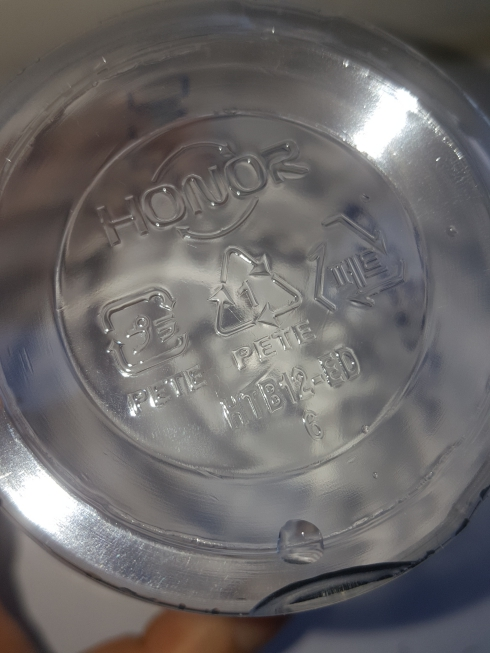recycle: (205, 239, 317, 367)
